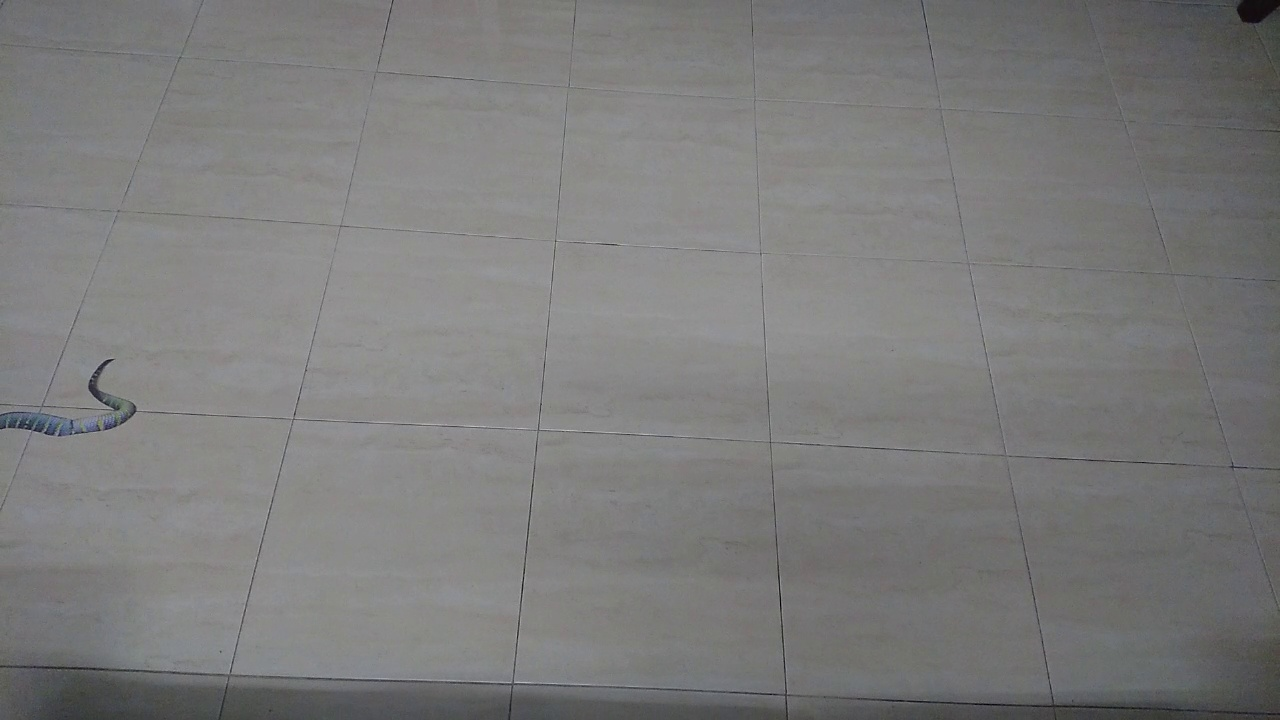snake: (1, 340, 147, 445)
